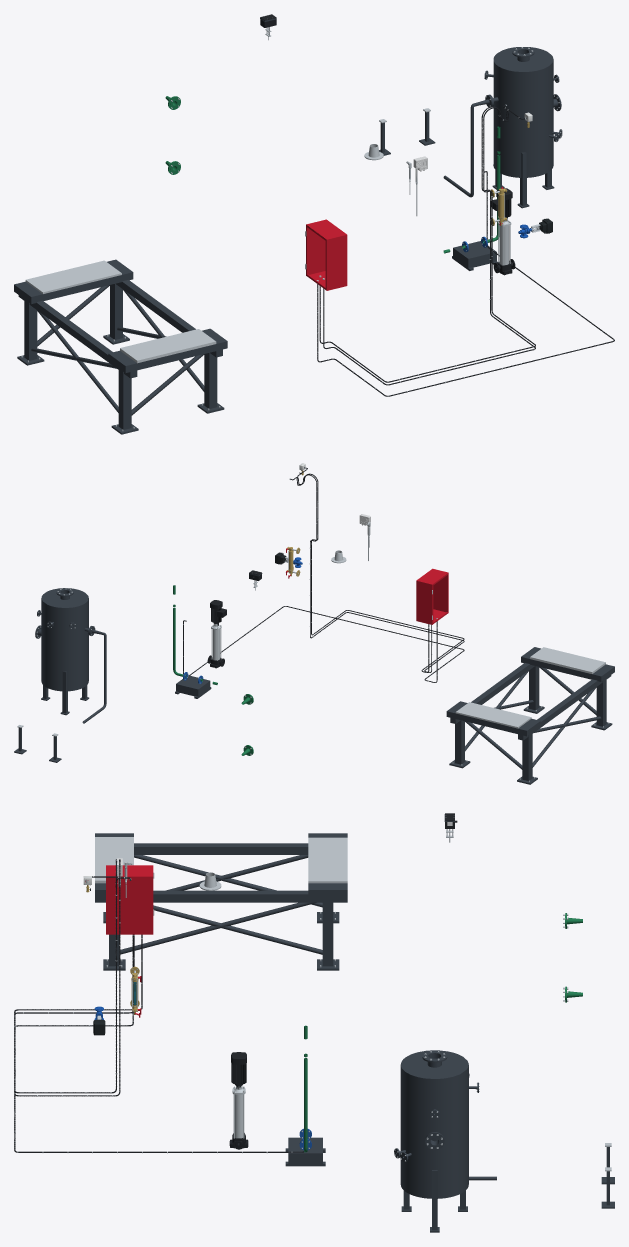
The picture shows the model from 3 angles, top to bottom: view 1: azimuth 30°, elevation 25°; view 2: azimuth 150°, elevation 25°; view 3: azimuth 270°, elevation 25°; orthographic projection. The views are drawn at different scales.
Parts seen in each view (by area): view 1: deaerator_support / dark, separator_bdv60_5 / dark, deaerator_support / steel, control_cabinet / control_cabinet_0.npz, wiring_pressure_switch_3 / black, wiring_pump_2 / black, wiring_pressure_switch_1 / black, pump_branch_2 / dark, bottom_to_bdv / dark; view 2: deaerator_support / dark, separator_bdv60_5 / dark, deaerator_support / steel, control_cabinet / control_cabinet_0.npz, wiring_pressure_switch_3 / black, wiring_pump_2 / black, wiring_pressure_switch_1 / black, pump_branch_2 / dark; view 3: separator_bdv60_5 / dark, deaerator_support / dark, deaerator_support / steel, control_cabinet / control_cabinet_0.npz, wiring_pressure_switch_1 / black, wiring_pressure_switch_3 / black, pump_branch_2 / dark, wiring_pump_2 / black.
Boxes of the visible parts, x1,y1,x2,y2 form: deaerator_support / dark: (14, 259, 227, 434); separator_bdv60_5 / dark: (484, 47, 562, 208); deaerator_support / steel: (21, 260, 220, 431); control_cabinet / control_cabinet_0.npz: (305, 219, 347, 290); wiring_pressure_switch_3 / black: (319, 105, 535, 382); wiring_pump_2 / black: (317, 171, 614, 396); wiring_pressure_switch_1 / black: (323, 106, 535, 385); pump_branch_2 / dark: (452, 241, 497, 270); bottom_to_bdv / dark: (443, 95, 492, 197); deaerator_support / dark: (446, 647, 614, 784); separator_bdv60_5 / dark: (35, 588, 91, 715); deaerator_support / steel: (452, 647, 609, 782); control_cabinet / control_cabinet_0.npz: (416, 568, 448, 624); wiring_pressure_switch_3 / black: (291, 473, 464, 672); wiring_pump_2 / black: (183, 606, 464, 682); wiring_pressure_switch_1 / black: (296, 467, 464, 672); pump_branch_2 / dark: (175, 675, 211, 698); separator_bdv60_5 / dark: (394, 1050, 478, 1232); deaerator_support / dark: (95, 833, 347, 970); deaerator_support / steel: (95, 837, 347, 967); control_cabinet / control_cabinet_0.npz: (106, 865, 154, 934); wiring_pressure_switch_1 / black: (14, 859, 134, 1096); wiring_pressure_switch_3 / black: (14, 859, 142, 1093); pump_branch_2 / dark: (285, 1137, 325, 1166); wiring_pump_2 / black: (14, 935, 304, 1152).
Bounding box in the file's own units: 8.56 × 3.27 × 6.75.
